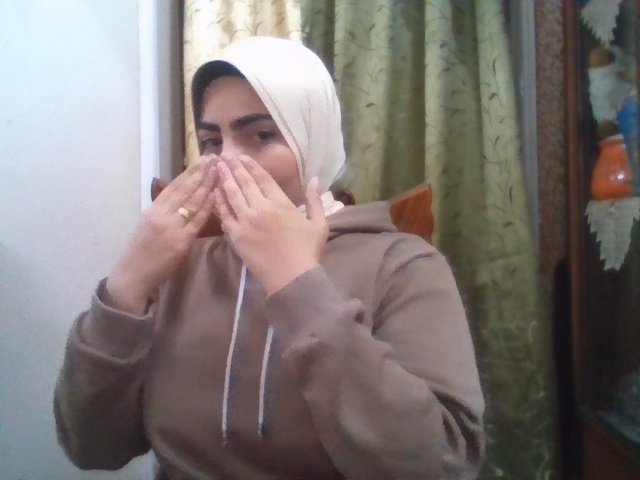thanks: (111, 152, 329, 283)
